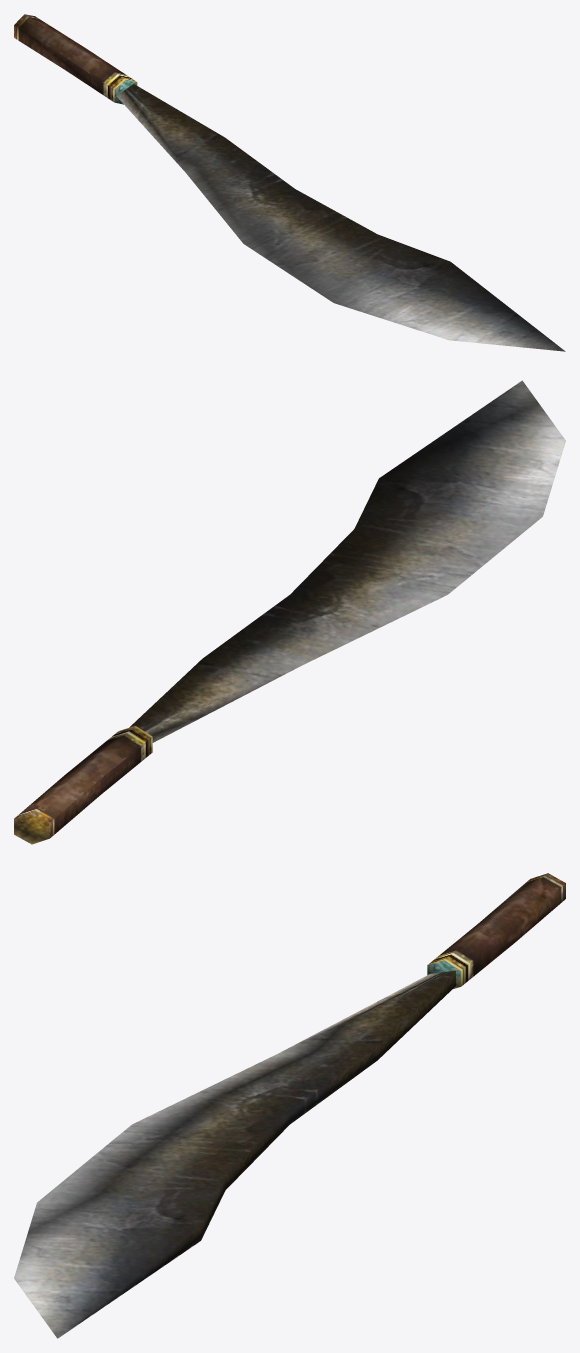
Rendered from blade_01.glb.
3 views of the same model, one above another, from view 1: azimuth 30°, elevation 25°; view 2: azimuth 150°, elevation 25°; view 3: azimuth 330°, elevation 25° (orthographic). The views are drawn at different scales.
Visible parts, largest first — view 1: blade_01; view 2: blade_01; view 3: blade_01.
Boxes of the visible parts, x1,y1,x2,y2 form: blade_01: [14, 14, 565, 351]; blade_01: [14, 380, 565, 844]; blade_01: [14, 873, 565, 1338].
Size of the model in its own units: 0.1357 by 0.0251 by 0.8397.
Materials: 1 (1 with a texture image).
